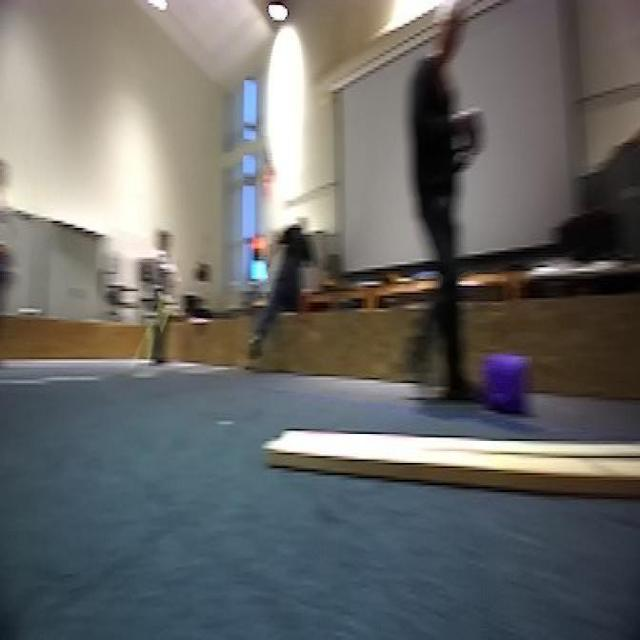frc_cube: (485, 351, 536, 418)
